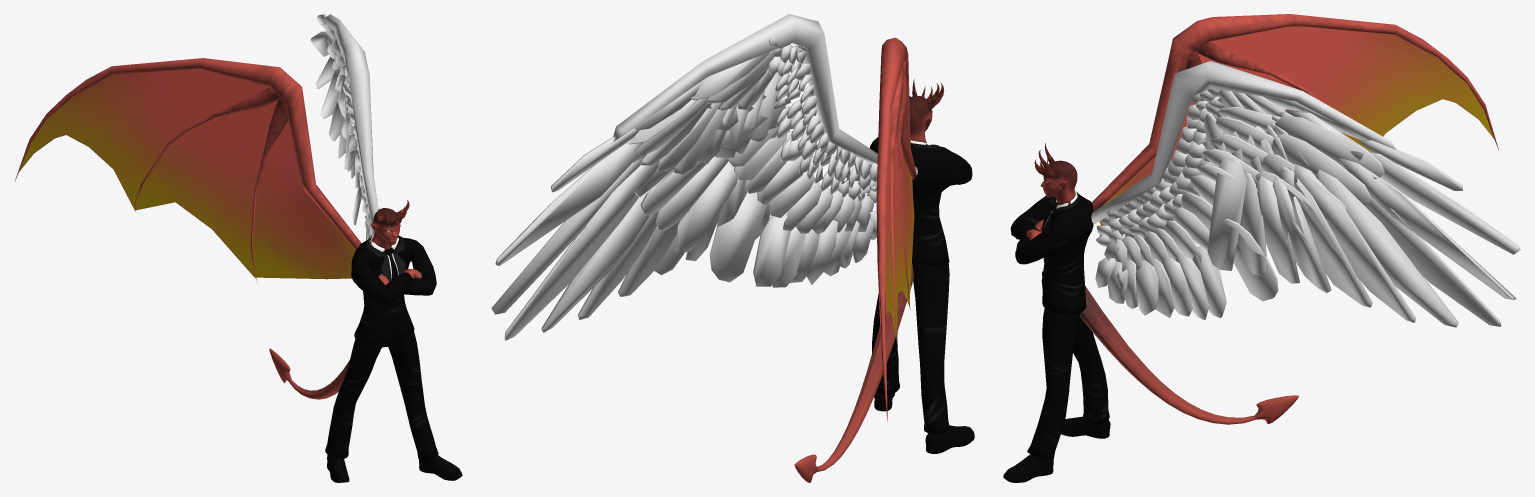
Rendered from Lucifer.glb.
The picture shows the model from 3 angles, left to right: view 1: azimuth 30°, elevation 25°; view 2: azimuth 150°, elevation 25°; view 3: azimuth 270°, elevation 25°; orthographic projection. The views are drawn at different scales.
Visible parts, largest first — view 1: devil wing.001, suit.001, angel wing.001, body.004, shirt.001; view 2: angel wing.001, suit.001, devil wing.001, body.004; view 3: angel wing.001, devil wing.001, suit.001, body.004.
Boxes of the visible parts, <box> form: devil wing.001: <box>14,58,361,283</box>; suit.001: <box>325,237,438,459</box>; angel wing.001: <box>310,14,378,240</box>; body.004: <box>269,208,462,482</box>; shirt.001: <box>365,235,405,281</box>; angel wing.001: <box>491,14,877,340</box>; suit.001: <box>870,137,972,434</box>; devil wing.001: <box>876,37,916,421</box>; body.004: <box>794,96,974,482</box>; angel wing.001: <box>1091,61,1520,327</box>; devil wing.001: <box>1092,14,1498,236</box>; suit.001: <box>1010,194,1109,460</box>; body.004: <box>1003,160,1298,482</box>.
Size of the model in its own units: 1.46 by 1.66 by 1.88.
6 materials, 4 textured.
